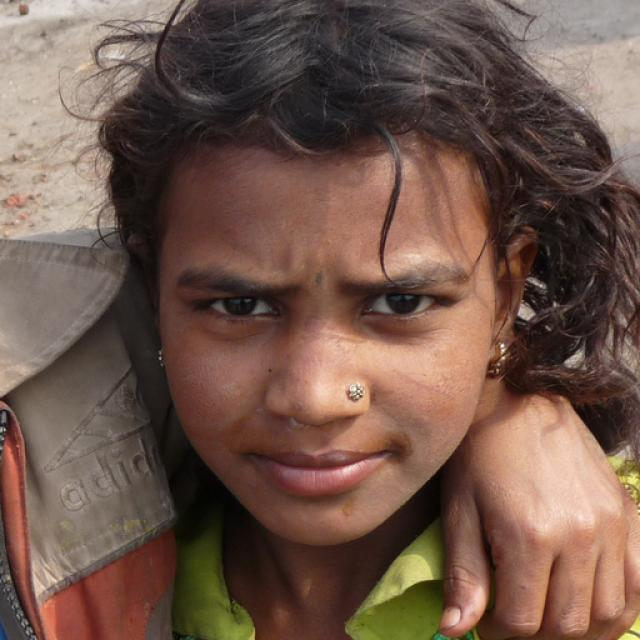content: (157, 117, 495, 544)
